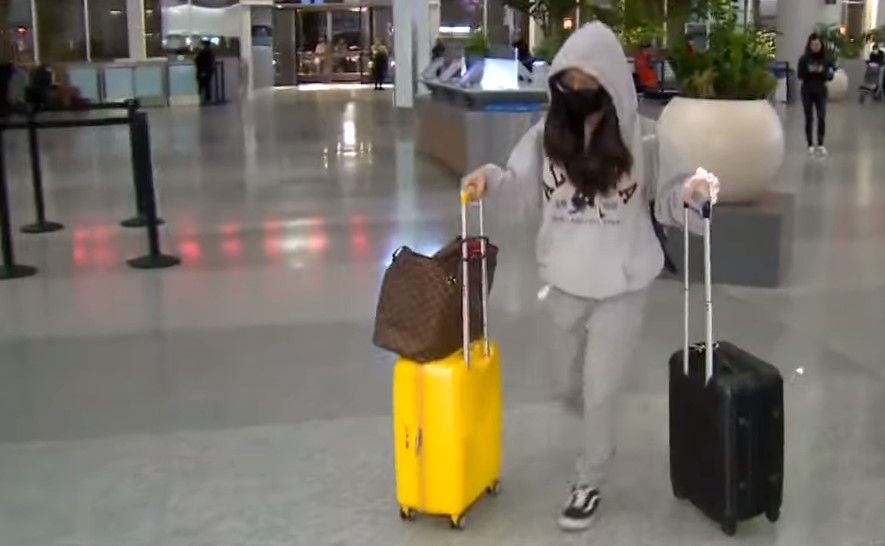face_with_mask: (548, 30, 621, 115)
